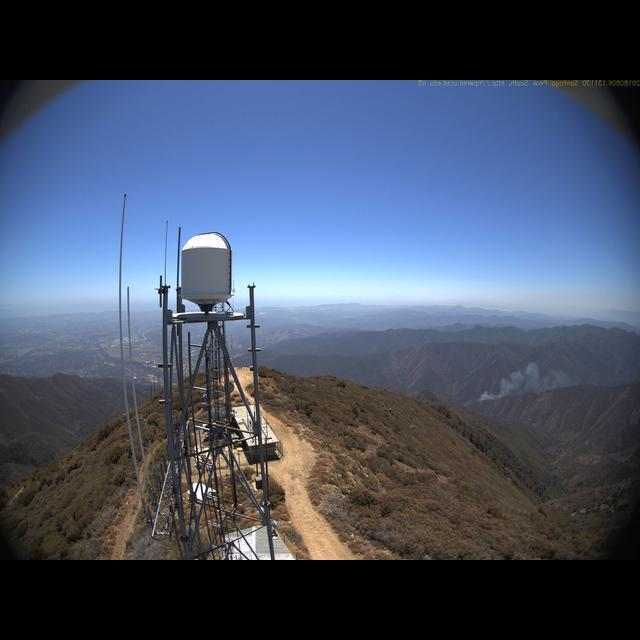Smoke: (480, 354, 590, 403)
